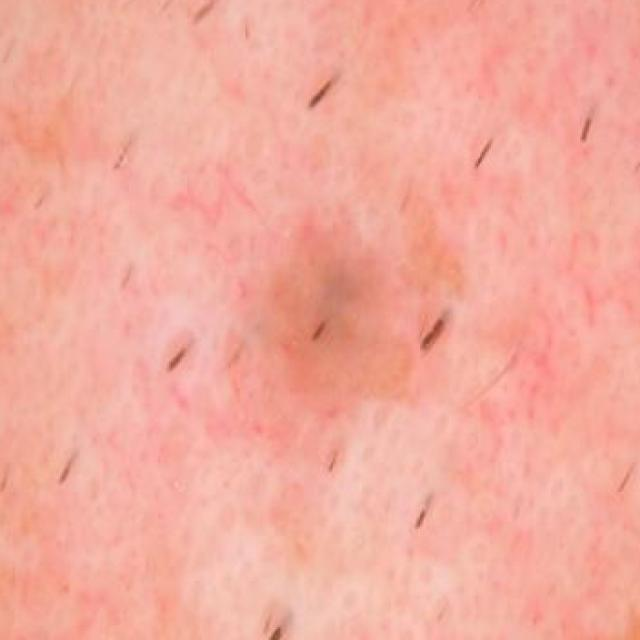NV: (244, 172, 517, 496)
